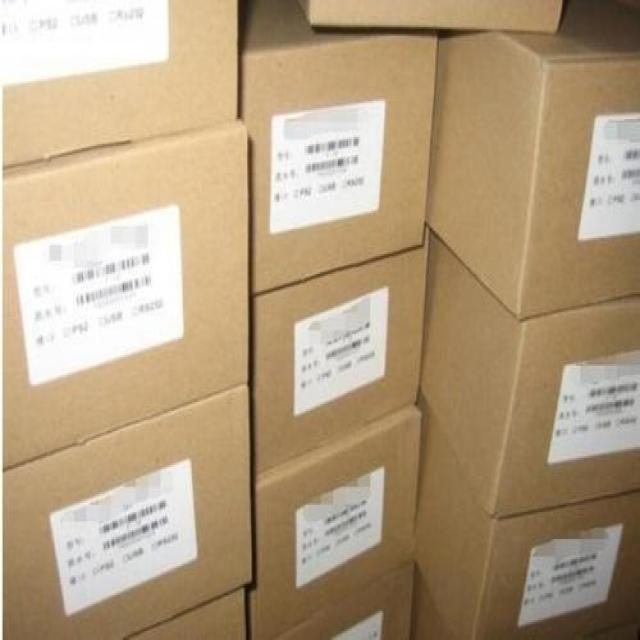box: (0, 120, 248, 475), (424, 0, 639, 321), (2, 382, 255, 638), (418, 228, 639, 519), (236, 1, 438, 299), (414, 390, 638, 638), (245, 405, 424, 638), (252, 245, 424, 478), (0, 1, 237, 168), (274, 558, 415, 638), (296, 1, 562, 32), (124, 586, 246, 638), (413, 560, 448, 638)
